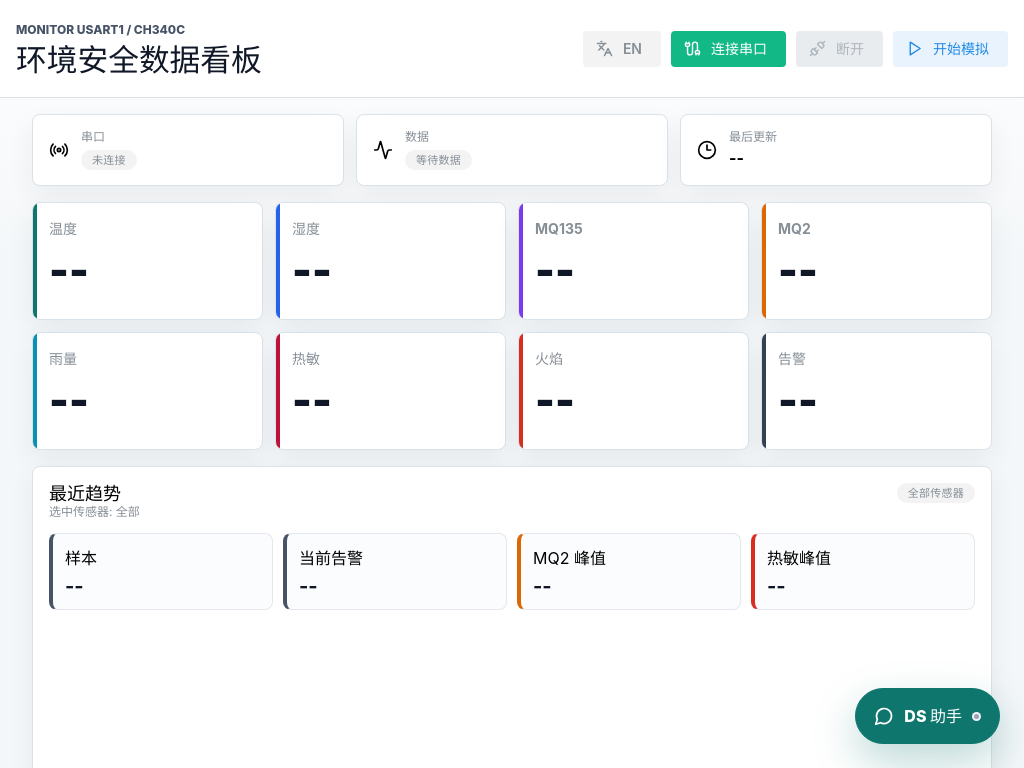
Test: React dashboard › switches visible labels, aria labels, and document state to English
Click the button with aria-label "切换语言" at (622, 48), box [583,30,661,66]
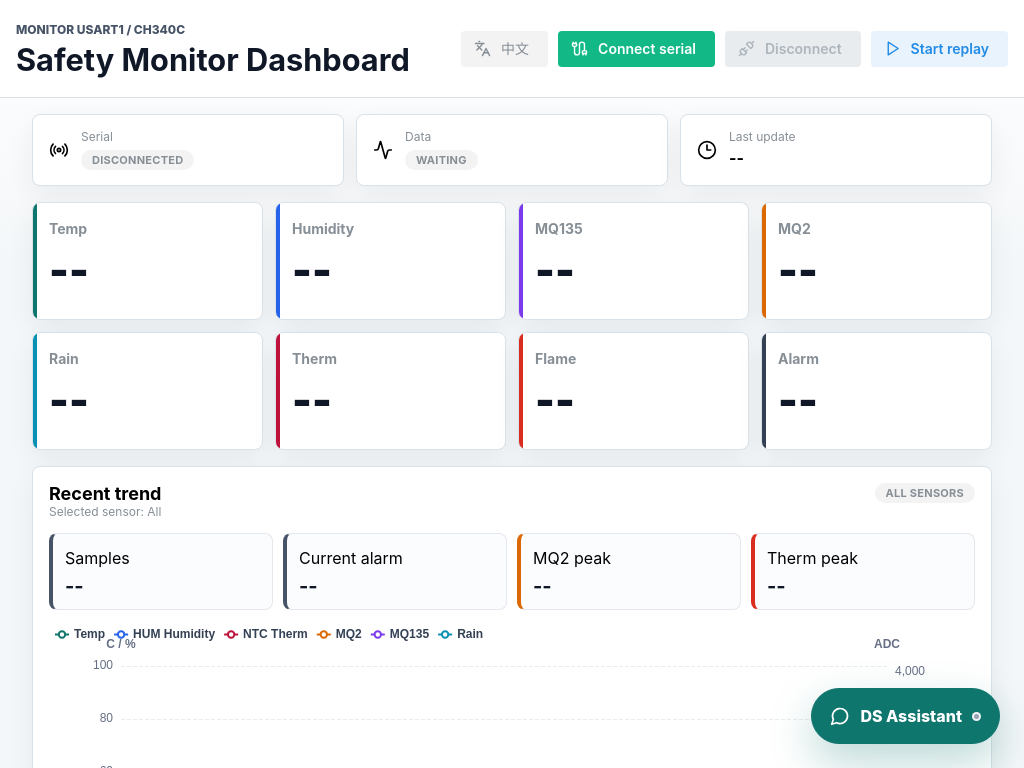
Check: the heading "Safety Monitor Dashboard" is shown, box [16,43,410,76]
Check: the element named "Live sensor values" is shown, box [32,202,992,450]
